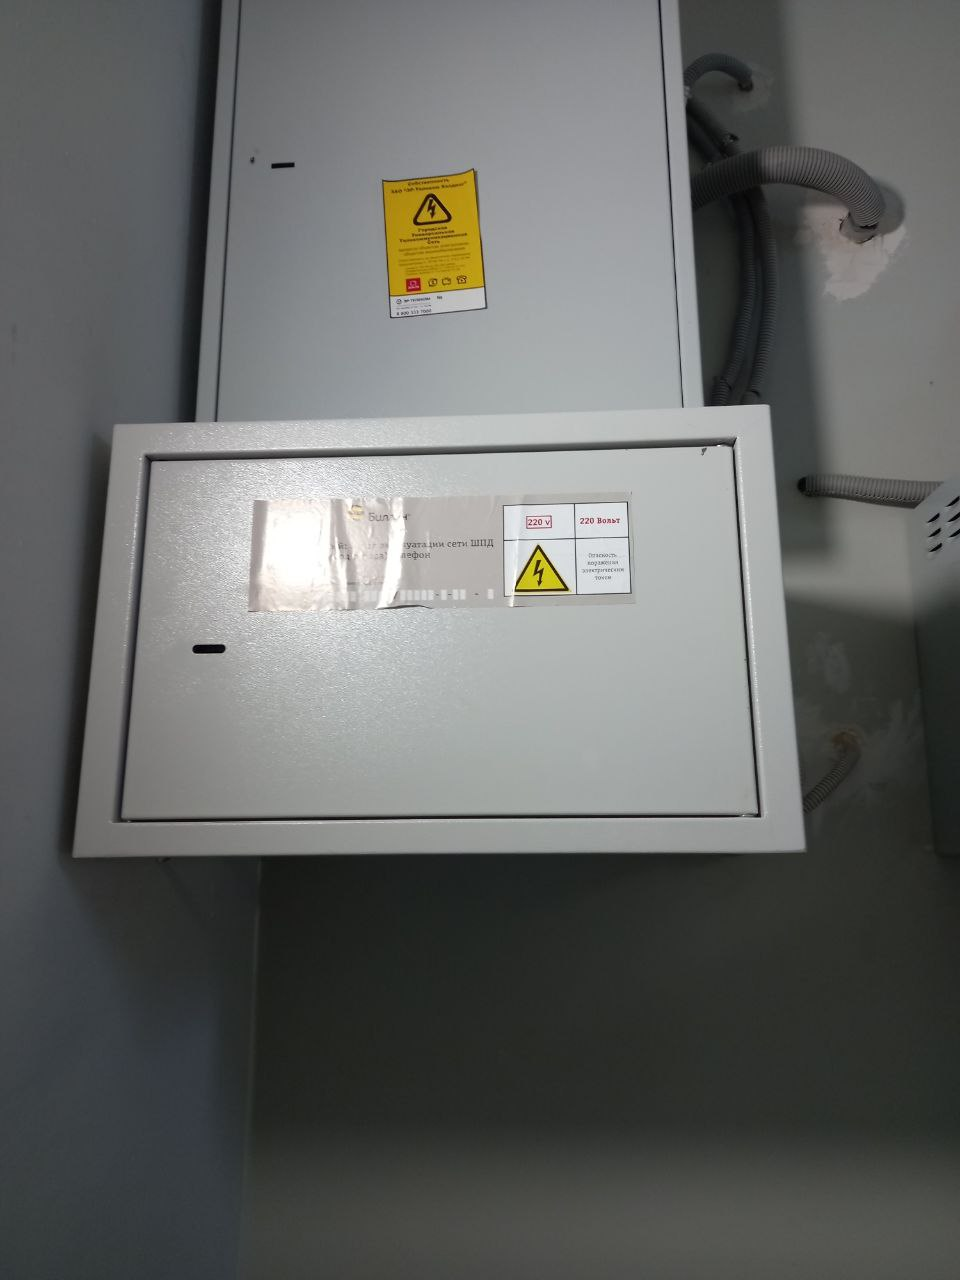shta-7m: (61, 399, 815, 871)
